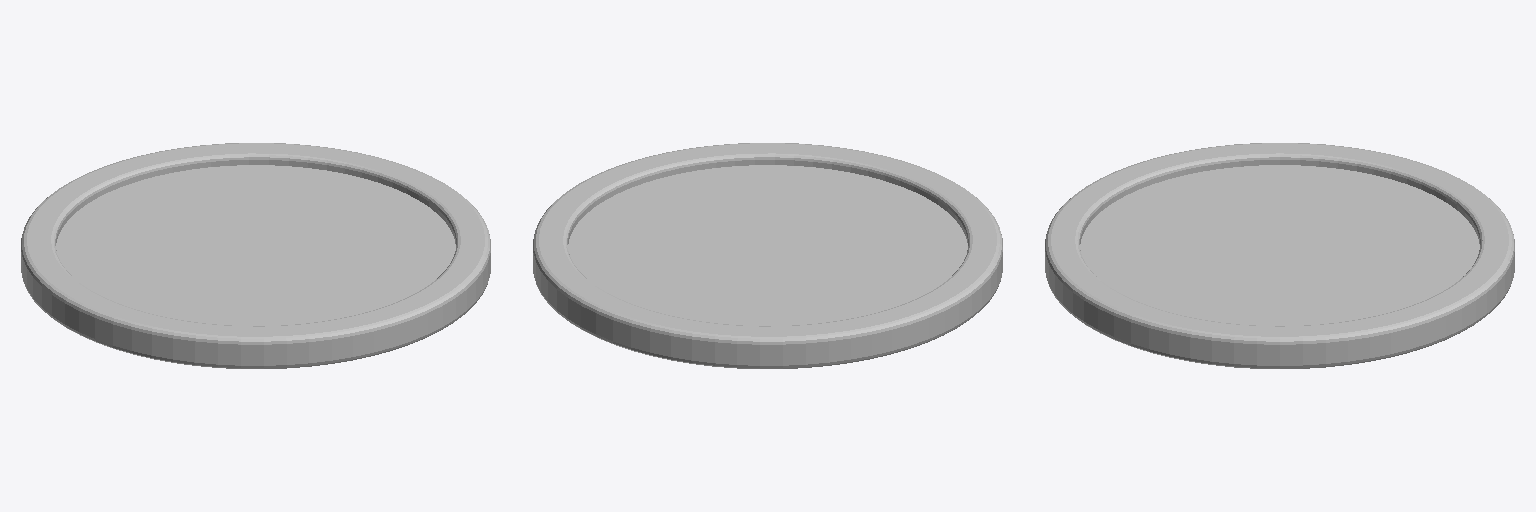
Rendered from coin.obj.
3 renders of one model, left to right at view 1: azimuth 30°, elevation 25°; view 2: azimuth 150°, elevation 25°; view 3: azimuth 270°, elevation 25°, orthographic.
Visible parts, largest first — view 1: Cylinder; view 2: Cylinder; view 3: Cylinder.
Part boxes in pixels (left/top/right/bottom): Cylinder: left=21, top=143, right=490, bottom=368; Cylinder: left=533, top=143, right=1002, bottom=368; Cylinder: left=1045, top=143, right=1514, bottom=368.
Size of the model in its own units: 2 by 0.15 by 2.